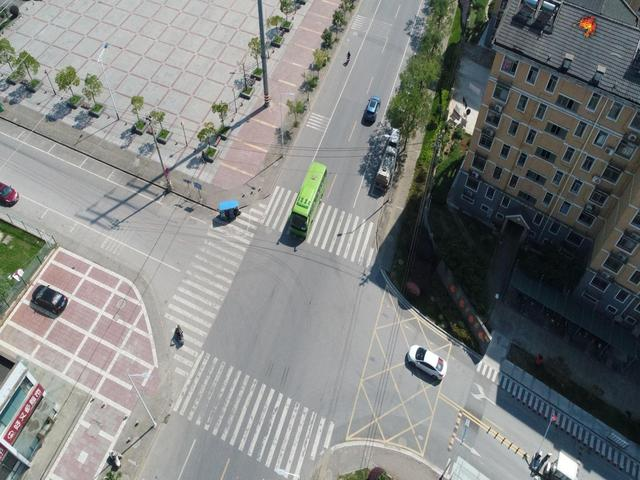fire: (571, 12, 598, 39)
